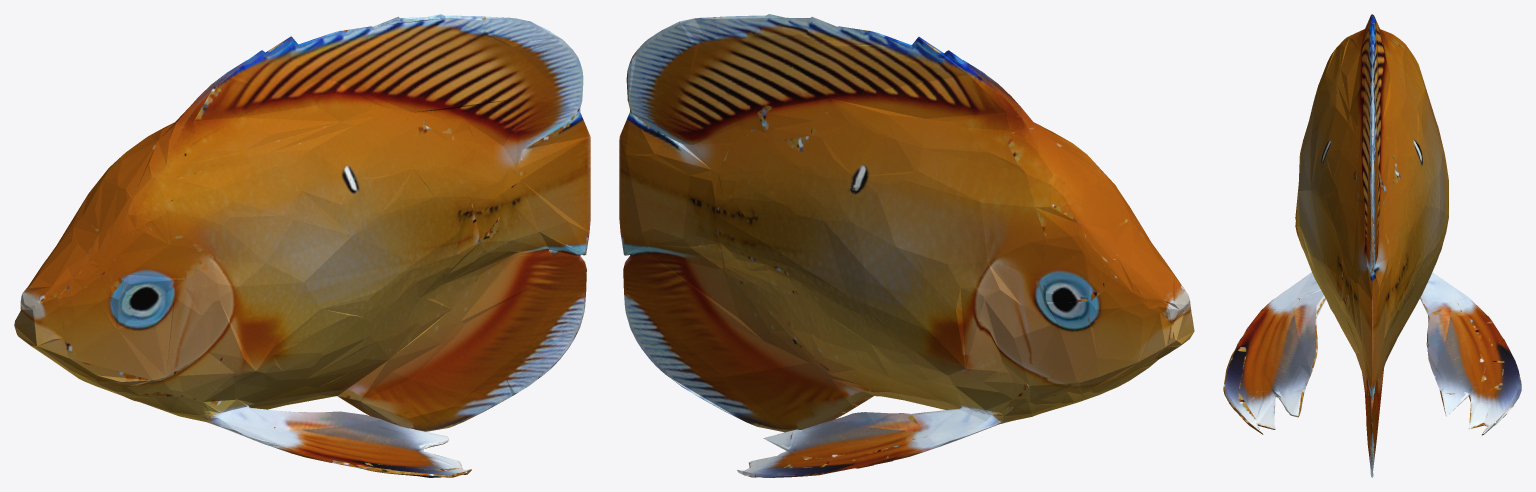
The model's file is fish_0077_smpl23_resized.glb.
The picture shows the model from 3 angles, left to right: view 1: azimuth 30°, elevation 25°; view 2: azimuth 150°, elevation 25°; view 3: azimuth 270°, elevation 25°; orthographic projection. The views are drawn at different scales.
Visible parts, largest first — view 1: world; view 2: world; view 3: world.
Part boxes in pixels (x1,y1,x2,y2): world: (14, 14, 590, 477); world: (619, 14, 1194, 477); world: (1223, 14, 1521, 477).
Size of the model in its own units: 1.98 by 1.43 by 1.04.
1 material, 1 textured.
